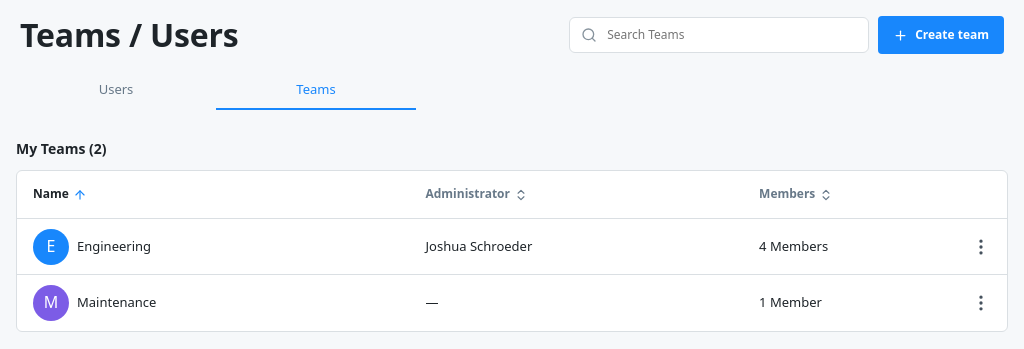
Test case: TeamsPage › uses sortable shared table headers for team columns
Expected: the text "Engineering" is shown, top-left (77, 239), bottom-right (151, 255)
Expected: the button "Administrator" is shown, top-left (426, 187), bottom-right (528, 202)
Click the button "Name": (60, 194) top-left (33, 187), bottom-right (87, 202)
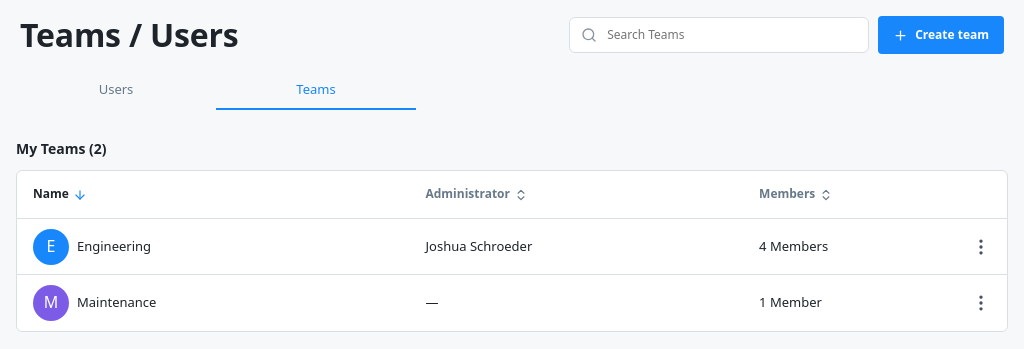
Expected: the icon with class "lucide-arrow-down" is shown, top-left (73, 188), bottom-right (87, 202)
